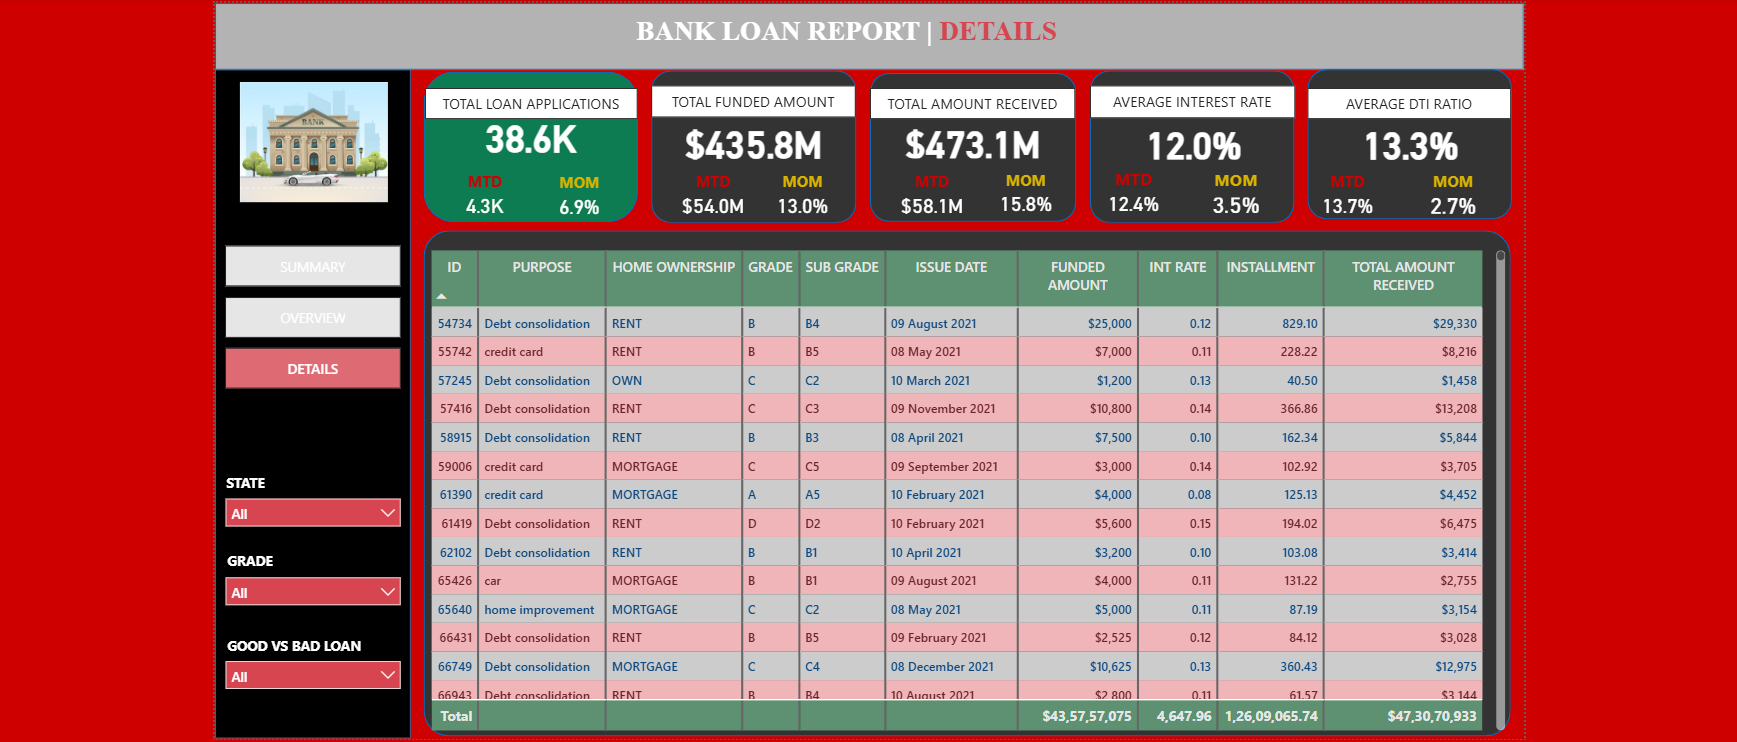

The dashboard page shown, as its layout file describes it:
{"tool":"powerbi","page":{"name":"DETAILS","canvas":[1280,720],"ordinal":2},"visuals":[{"type":"shape","box":[0,64.7,191.6,654.7],"z":0},{"type":"shape","box":[1069.3,65,200,146.7],"z":0,"group":"g7"},{"type":"shape","box":[855.6,65.8,200,149.2],"z":0,"group":"g8"},{"type":"shape","box":[204.1,67.5,209.5,147],"z":0,"group":"g2"},{"type":"shape","box":[204.3,222,1063.3,494.8],"z":0,"group":"g5"},{"type":"shape","box":[0,0,1280.3,65.4],"z":1000},{"type":"shape","box":[426.8,65.8,200.5,149.2],"z":1000,"group":"g4"},{"type":"card","fields":{"Values":["bank financial_loan.Total Loan Applications"]},"box":[204.2,107.9,209.5,45.2],"z":1000,"group":"g2"},{"type":"card","fields":{"Values":["bank financial_loan.AVERAGE DTI RATIO"]},"box":[1069.3,113.9,201.8,45.4],"z":1000,"group":"g7"},{"type":"card","fields":{"Values":["bank financial_loan.AVERAGE INTEREST RATE"]},"box":[858,114.2,198.1,43.4],"z":1000,"group":"g8"},{"type":"textbox","box":[407.7,7.4,489.5,48.3],"z":2000},{"type":"shape","box":[640.7,68.3,201.7,145.5],"z":2000,"group":"g6"},{"type":"textbox","box":[855.6,80.7,200.5,32.3],"z":2000,"group":"g8"},{"type":"textbox","box":[205.3,83.4,207.9,30.6],"z":2000,"group":"g2"},{"type":"textbox","box":[1069.3,83.6,199.3,30],"z":2000,"group":"g7"},{"type":"group","id":"g1","title":"Group 2","box":[855.6,65.8,200.5,149.2],"z":3000},{"type":"card","title":"MTD","fields":{"Values":["bank financial_loan.MTD avg interest rate"]},"box":[865.1,159.5,65.6,47],"z":3000,"group":"g8"},{"type":"card","title":"MTD","fields":{"Values":["bank financial_loan.MTD avg dti ratio"]},"box":[1075.4,164,66,46.6],"z":3000,"group":"g7"},{"type":"card","title":"MTD","fields":{"Values":["bank financial_loan.MTD"]},"box":[221.9,164.1,83,50.1],"z":3000,"group":"g2"},{"type":"card","fields":{"Values":["bank financial_loan.total funded amount"]},"box":[426.8,111.8,200.5,46],"z":4000,"group":"g4"},{"type":"card","title":"MOM","fields":{"Values":["bank financial_loan.MOM avg interest rate"]},"box":[965.1,160.6,65.6,47],"z":4000,"group":"g8"},{"type":"card","title":"MOM","fields":{"Values":["bank financial_loan.MOM avg dti ratio"]},"box":[1179.4,164,64.8,46.6],"z":4000,"group":"g7"},{"type":"card","title":"MOM","fields":{"Values":["bank financial_loan.MOM LOAN APPLICATIONS"]},"box":[314.4,165.3,84.3,50.1],"z":4000,"group":"g2"},{"type":"textbox","box":[1.3,454.7,57.1,29.2],"z":4000},{"type":"card","fields":{"Values":["bank financial_loan.TOTAL AMOUNT RECEIVED"]},"box":[640.7,114,201.7,43.3],"z":5000,"group":"g6"},{"type":"slicer","fields":{"Values":["bank financial_loan.address_state"]},"box":[0,475,191.6,50.8],"z":5000},{"type":"group","id":"g2","title":"Group 2","box":[204.1,67.5,209.4,148],"z":6000},{"type":"group","id":"g3","title":"Group 2","box":[1069.3,65,201.8,146.7],"z":7000},{"type":"textbox","box":[427.3,80,200,31.5],"z":7000,"group":"g4"},{"type":"textbox","box":[640.6,82.9,201.1,30.5],"z":8000,"group":"g6"},{"type":"textbox","box":[1.3,532.1,66,29.2],"z":8000},{"type":"card","title":"MTD","fields":{"Values":["bank financial_loan.MTD funded amount"]},"box":[447.6,164,79.5,51],"z":9000,"group":"g4"},{"type":"slicer","fields":{"Values":["bank financial_loan.grade"]},"box":[0,551.1,191.6,50.8],"z":9000},{"type":"card","title":"MTD","fields":{"Values":["bank financial_loan.MTD AMOUNT RECEIVED"]},"box":[661.6,163.3,79.9,49.3],"z":10000,"group":"g6"},{"type":"slicer","fields":{"Values":["bank financial_loan.Good Vs Bad Loans"]},"box":[0,632.9,191.6,52],"z":10000},{"type":"card","title":"MOM","fields":{"Values":["bank financial_loan.MoM funded amount"]},"box":[534.4,164,80.7,51],"z":11000,"group":"g4"},{"type":"textbox","box":[0,614.6,154.8,29.2],"z":11000},{"type":"group","id":"g4","title":"Group 1","box":[426.8,65.8,200.5,149.2],"z":12000},{"type":"card","title":"MOM","fields":{"Values":["bank financial_loan.MOM AMOUNT RECEIVED"]},"box":[752.6,162.1,79.9,48.1],"z":12000,"group":"g6"},{"type":"group","id":"g5","title":"Group 6","box":[204.3,222,1063.3,494.8],"z":13000},{"type":"group","id":"g6","title":"Group 3","box":[640.6,68.3,201.8,145.5],"z":14000},{"type":"tableEx","fields":{"Values":["bank financial_loan.id","bank financial_loan.purpose","bank financial_loan.home_ownership","bank financial_loan.grade","bank financial_loan.sub_grade","bank financial_loan.issue_date","bank financial_loan.total funded amount","Sum(bank financial_loan.int_rate)","Sum(bank financial_loan.installment)","bank financial_loan.TOTAL AMOUNT RECEIVED"]},"box":[205.6,237.3,1062,479.6],"z":15000},{"type":"group","id":"g7","title":"Group 5","box":[1069.3,65,201.8,146.7],"z":15003,"group":"g3"},{"type":"group","id":"g8","title":"Group 4","box":[855.6,65.8,200.5,149.2],"z":15003,"group":"g1"},{"type":"pageNavigator","box":[10.2,237.3,172.6,142.1],"z":16000},{"type":"image","box":[19,68.5,154.8,134.5],"z":17000}]}

Visuals, with their boxes on the page's 1280x720 design canvas (x1, y1, x2, y2). These are canvas units, not pixel positions in the 1737x742 screenshot, which may show the page scaled, cropped or inside an application window:
shape: bbox=[0, 65, 192, 719]
shape: bbox=[1069, 65, 1269, 212]
shape: bbox=[856, 66, 1056, 215]
shape: bbox=[204, 68, 414, 214]
shape: bbox=[204, 222, 1268, 717]
shape: bbox=[0, 0, 1280, 65]
shape: bbox=[427, 66, 627, 215]
card - bank financial_loan.Total Loan Applications: bbox=[204, 108, 414, 153]
card - bank financial_loan.AVERAGE DTI RATIO: bbox=[1069, 114, 1271, 159]
card - bank financial_loan.AVERAGE INTEREST RATE: bbox=[858, 114, 1056, 158]
textbox: bbox=[408, 7, 897, 56]
shape: bbox=[641, 68, 842, 214]
textbox: bbox=[856, 81, 1056, 113]
textbox: bbox=[205, 83, 413, 114]
textbox: bbox=[1069, 84, 1269, 114]
"Group 2" group: bbox=[856, 66, 1056, 215]
"MTD" card: bbox=[865, 160, 931, 206]
"MTD" card: bbox=[1075, 164, 1141, 211]
"MTD" card: bbox=[222, 164, 305, 214]
card - bank financial_loan.total funded amount: bbox=[427, 112, 627, 158]
"MOM" card: bbox=[965, 161, 1031, 208]
"MOM" card: bbox=[1179, 164, 1244, 211]
"MOM" card: bbox=[314, 165, 399, 215]
textbox: bbox=[1, 455, 58, 484]
card - bank financial_loan.TOTAL AMOUNT RECEIVED: bbox=[641, 114, 842, 157]
slicer - bank financial_loan.address_state: bbox=[0, 475, 192, 526]
"Group 2" group: bbox=[204, 68, 414, 216]
"Group 2" group: bbox=[1069, 65, 1271, 212]
textbox: bbox=[427, 80, 627, 112]
textbox: bbox=[641, 83, 842, 113]
textbox: bbox=[1, 532, 67, 561]
"MTD" card: bbox=[448, 164, 527, 215]
slicer - bank financial_loan.grade: bbox=[0, 551, 192, 602]
"MTD" card: bbox=[662, 163, 742, 213]
slicer - bank financial_loan.Good Vs Bad Loans: bbox=[0, 633, 192, 685]
"MOM" card: bbox=[534, 164, 615, 215]
textbox: bbox=[0, 615, 155, 644]
"Group 1" group: bbox=[427, 66, 627, 215]
"MOM" card: bbox=[753, 162, 832, 210]
"Group 6" group: bbox=[204, 222, 1268, 717]
"Group 3" group: bbox=[641, 68, 842, 214]
tableEx - bank financial_loan.id x bank financial_loan.purpose: bbox=[206, 237, 1268, 717]
"Group 5" group: bbox=[1069, 65, 1271, 212]
"Group 4" group: bbox=[856, 66, 1056, 215]
pageNavigator: bbox=[10, 237, 183, 379]
image: bbox=[19, 68, 174, 203]
